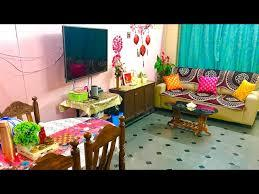TV: (61, 26, 109, 82)
chair: (85, 118, 127, 173), (29, 135, 79, 171), (0, 97, 41, 128)
sofa: (153, 70, 259, 127)
table: (0, 117, 121, 172), (167, 102, 219, 135), (116, 80, 156, 120), (61, 90, 120, 116)
